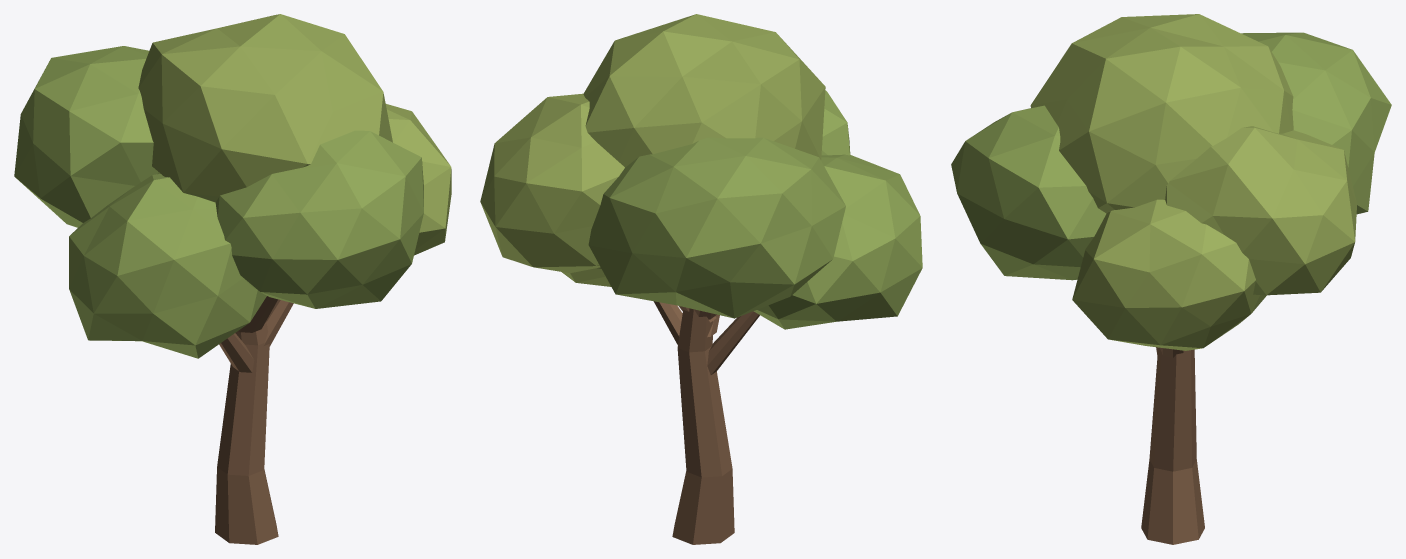
Rendered from Oak_Medium.fbx.
3 views of the same model, side by side, from view 1: azimuth 30°, elevation 25°; view 2: azimuth 150°, elevation 25°; view 3: azimuth 270°, elevation 25° (orthographic). The views are drawn at different scales.
Parts seen in each view (by area): view 1: Oak_Medium; view 2: Oak_Medium; view 3: Oak_Medium.
Boxes of the visible parts, x1,y1,x2,y2 form: Oak_Medium: [14, 14, 451, 544]; Oak_Medium: [480, 14, 922, 544]; Oak_Medium: [951, 14, 1391, 544].
Bounding box in the file's own units: 366 × 461 × 367.
